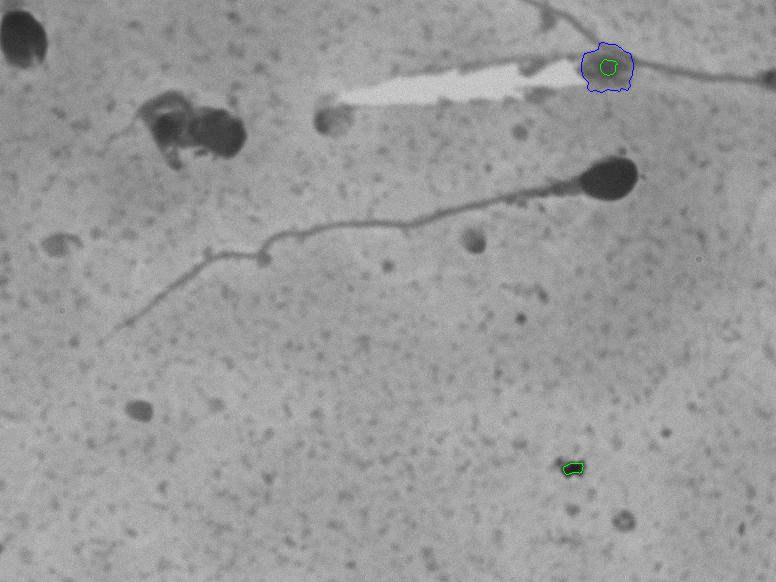Abnormal: (81, 134, 666, 360)
